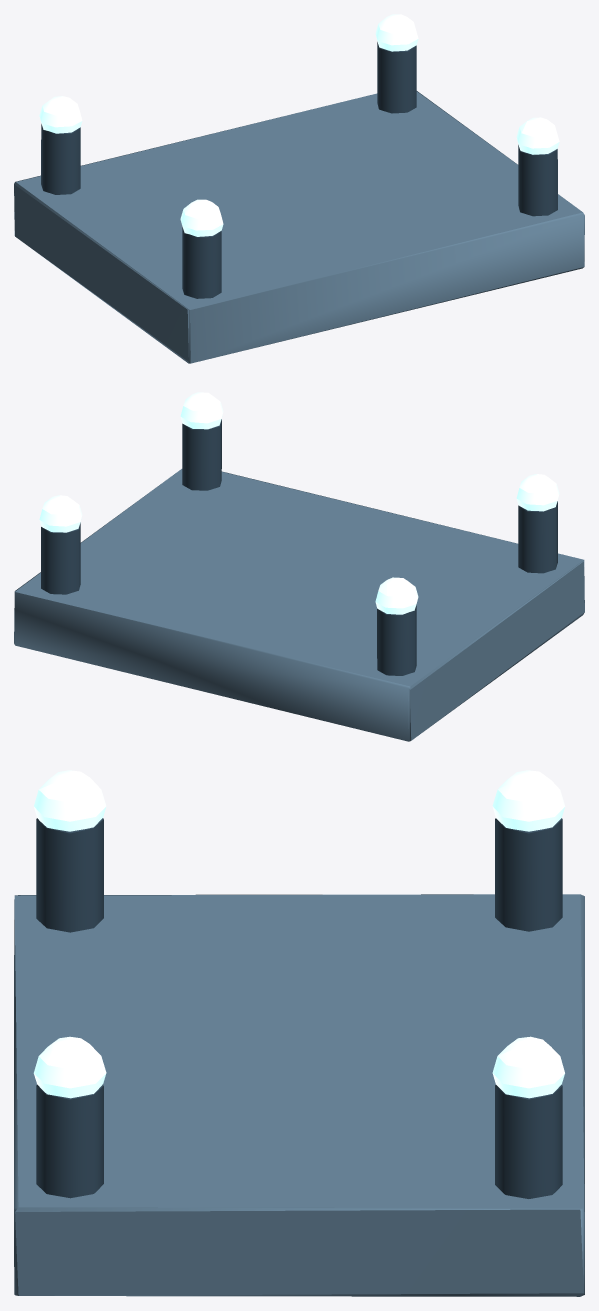
Rendered from SM_Rheinufer_Ponton_LOD2.fbx.
The picture shows the model from 3 angles, top to bottom: view 1: azimuth 30°, elevation 25°; view 2: azimuth 150°, elevation 25°; view 3: azimuth 270°, elevation 25°; orthographic projection. The views are drawn at different scales.
Visible parts, largest first — view 1: SM_Rheinufer_Ponton_LOD2; view 2: SM_Rheinufer_Ponton_LOD2; view 3: SM_Rheinufer_Ponton_LOD2.
Boxes of the visible parts, box(x1,y1,x2,y2) form: SM_Rheinufer_Ponton_LOD2: box(14, 14, 584, 363); SM_Rheinufer_Ponton_LOD2: box(14, 392, 584, 741); SM_Rheinufer_Ponton_LOD2: box(14, 770, 584, 1296).
Size of the model in its own units: 2.59 by 0.9024 by 1.99.
